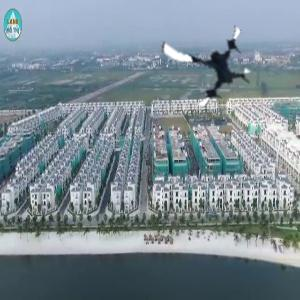drone: (160, 12, 259, 111)
